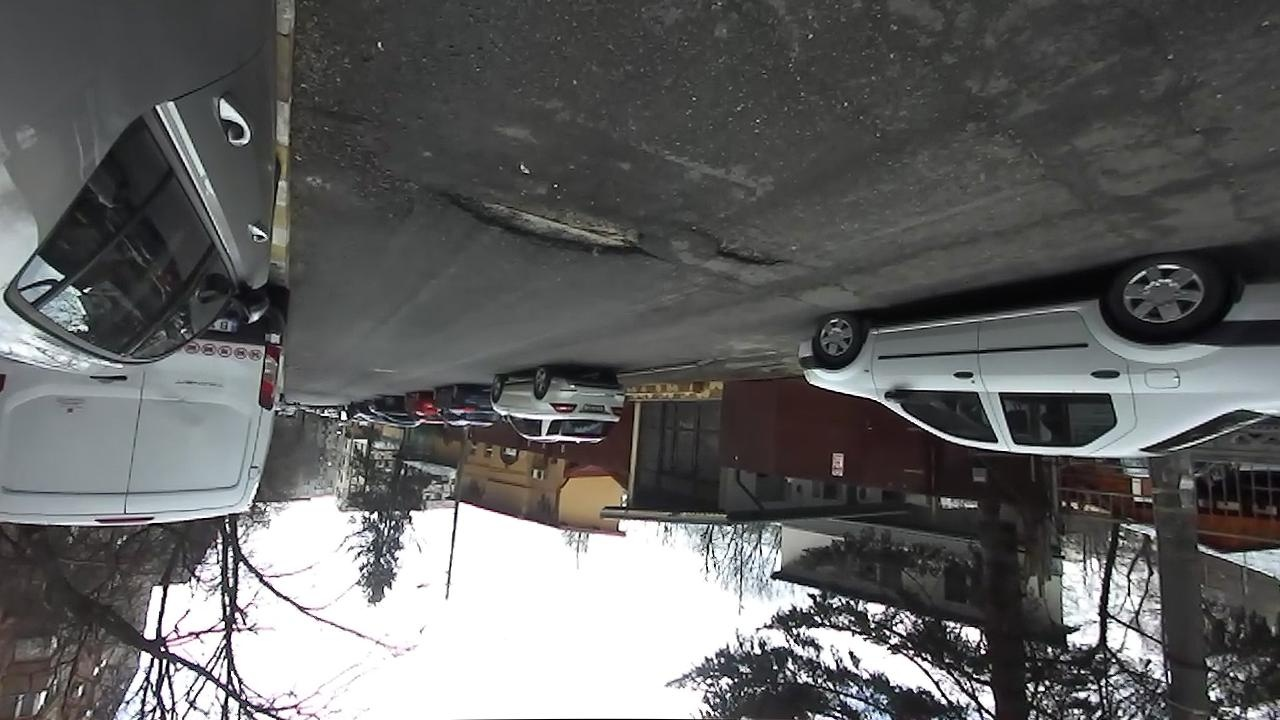pothole: (435, 186, 652, 260), (696, 226, 793, 269)
